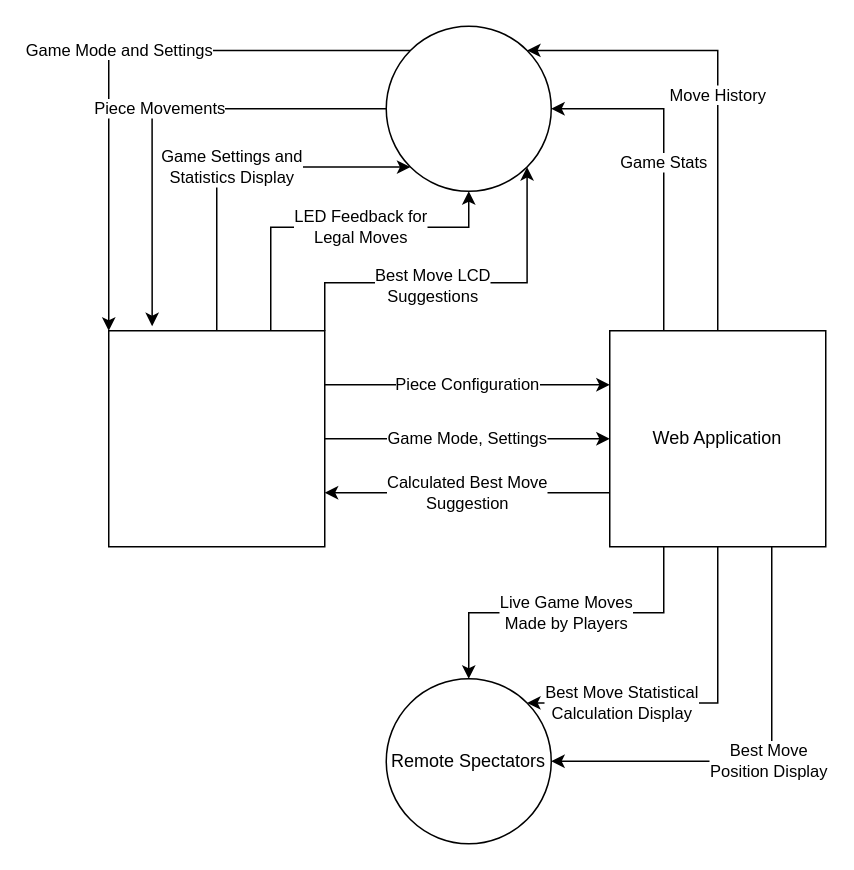
Some shapes in this 854 by 870 pixel diagram are drawn without their labels. The box of each missing label's shape, as (x1, y1, x2, y2) in pixels:
Chess Board: (107, 329, 325, 547)
Players: (385, 25, 551, 191)
